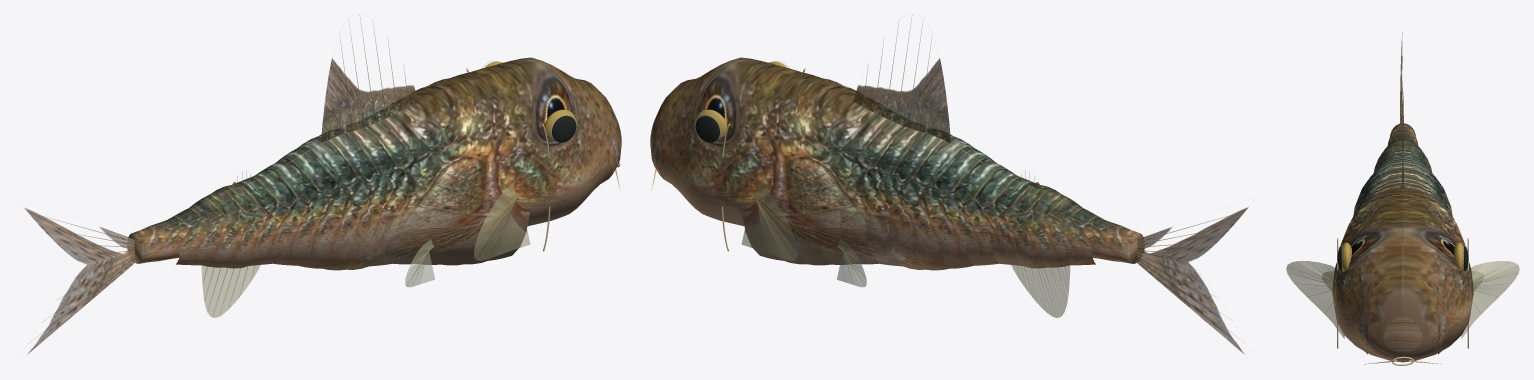
Rendered from cory-mobile.glb.
The picture shows the model from 3 angles, left to right: view 1: azimuth 30°, elevation 25°; view 2: azimuth 150°, elevation 25°; view 3: azimuth 270°, elevation 25°; orthographic projection. The views are drawn at different scales.
Parts seen in each view (by area): view 1: skin, tail, dorsal, pectoral-left, dorsal-ray, anal, pelvic-left, eye-pupil--1; view 2: skin, tail, dorsal, pectoral-left, dorsal-ray, anal, pelvic-left, eye-pupil--1; view 3: skin, pectoral-left, dorsal-ray, eye-iris--1, operculum, pelvic-left, eye-pupil--1.
Part boxes in pixels (x1,y1,x2,y2): skin: (127, 57, 621, 270); tail: (24, 207, 134, 354); dorsal: (229, 58, 418, 189); pectoral-left: (474, 181, 530, 260); dorsal-ray: (28, 15, 517, 341); anal: (201, 265, 260, 317); pelvic-left: (405, 239, 434, 287); eye-pupil--1: (552, 115, 576, 142); skin: (650, 57, 1144, 270); tail: (1137, 207, 1248, 354); dorsal: (853, 58, 1042, 189); pectoral-left: (741, 181, 797, 260); dorsal-ray: (755, 15, 1237, 337); anal: (1011, 265, 1070, 317); pelvic-left: (837, 239, 866, 287); eye-pupil--1: (695, 115, 719, 142); skin: (1332, 123, 1473, 362); pectoral-left: (1286, 261, 1519, 338); dorsal-ray: (1293, 42, 1511, 311); eye-iris--1: (1342, 242, 1463, 271); operculum: (1337, 238, 1468, 365); pelvic-left: (1322, 271, 1483, 289); eye-pupil--1: (1337, 246, 1468, 270).
Size of the model in its own units: 0.5972 by 0.2561 by 0.2335.
11 materials, 3 textured.
